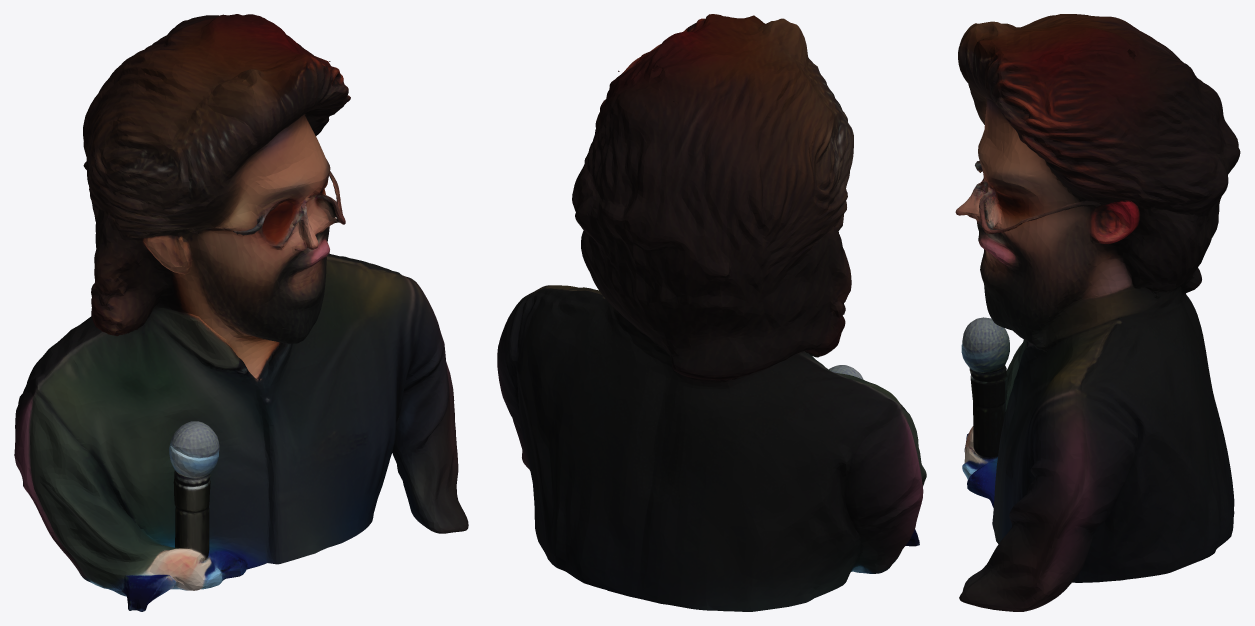
Rendered from pushpa-trellis-portrait-head.glb.
3 renders of one model, left to right at view 1: azimuth 30°, elevation 25°; view 2: azimuth 150°, elevation 25°; view 3: azimuth 270°, elevation 25°, orthographic. The views are drawn at different scales.
Visible parts, largest first — view 1: world; view 2: world; view 3: world.
Part boxes in pixels (bbox=[...]): world: bbox=[14, 14, 468, 611]; world: bbox=[497, 14, 926, 611]; world: bbox=[955, 14, 1240, 611].
Bounding box in the file's own units: 0.8869 × 0.9999 × 0.5268.
1 material, 1 textured.
